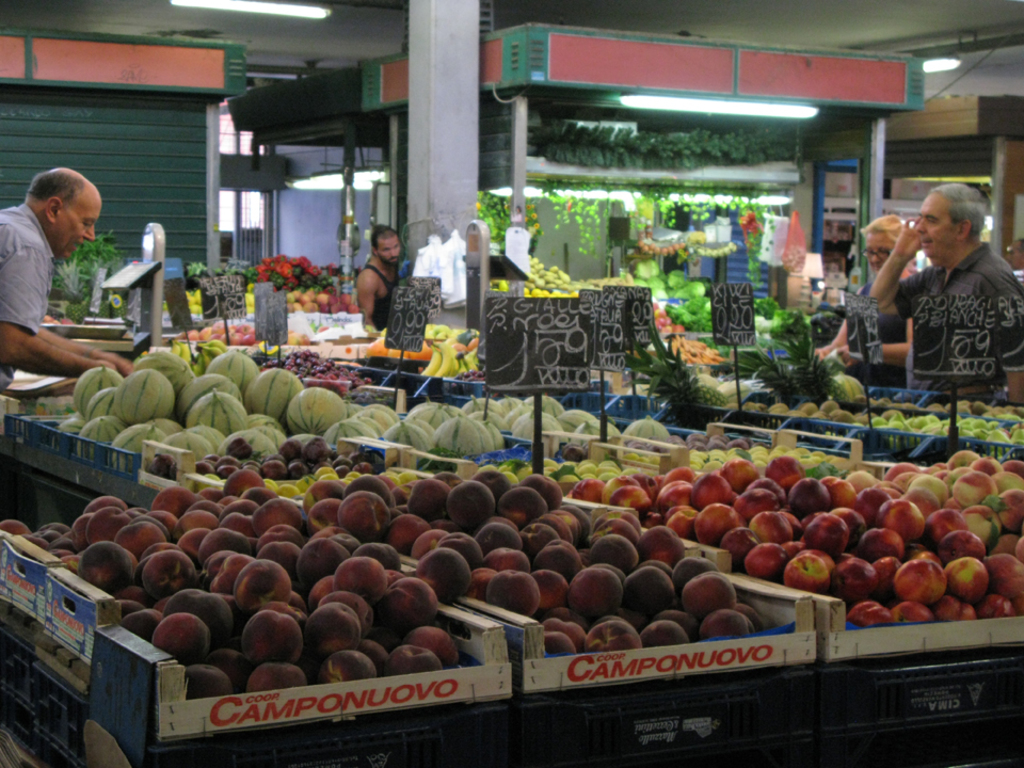Person: (867, 179, 1024, 410), (0, 168, 132, 394), (813, 207, 923, 389), (355, 225, 402, 328)
